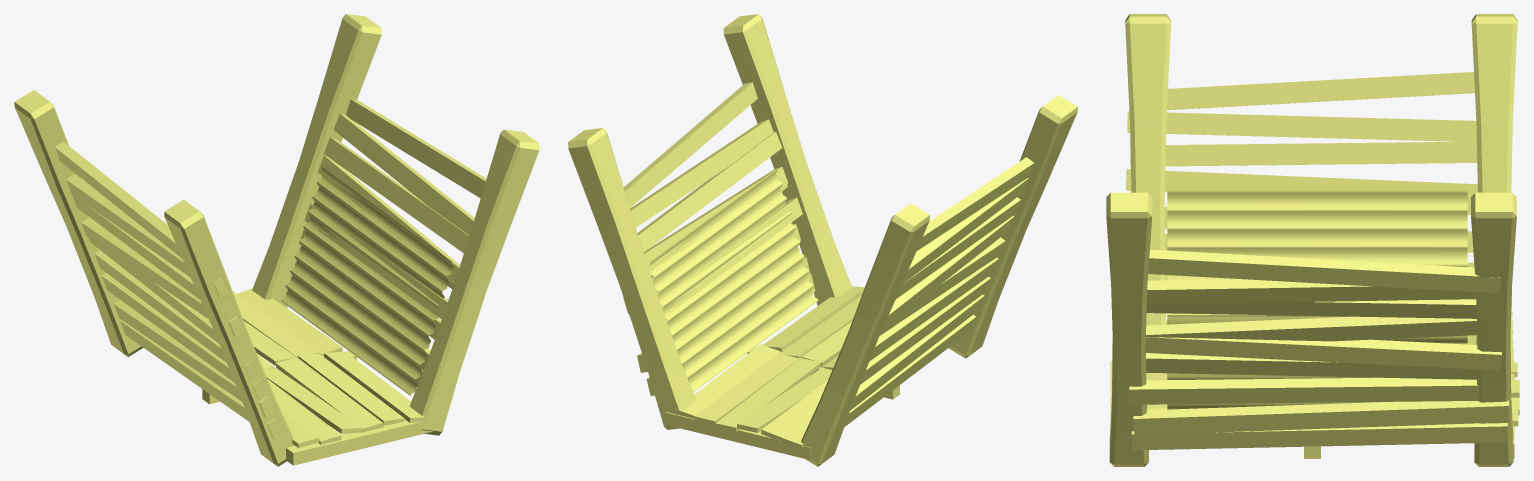
File: Trench01v3.fbx
The picture shows the model from 3 angles, left to right: view 1: azimuth 30°, elevation 25°; view 2: azimuth 150°, elevation 25°; view 3: azimuth 270°, elevation 25°; orthographic projection. The views are drawn at different scales.
Parts seen in each view (by area): view 1: Trench01; view 2: Trench01; view 3: Trench01.
Part boxes in pixels (box(x1,y1,x2,y2)): Trench01: box(14, 14, 539, 466); Trench01: box(568, 14, 1077, 466); Trench01: box(1106, 14, 1519, 466).
Size of the model in its own units: 293 by 220 by 258.
